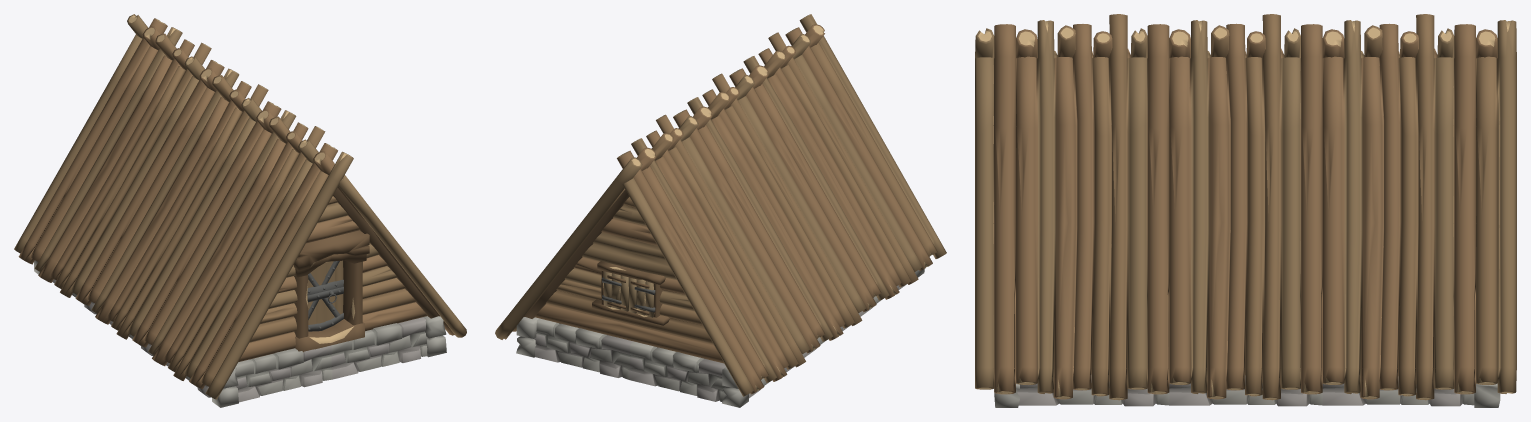
File: rpgpp_ag_building_closed_09.fbx
The picture shows the model from 3 angles, left to right: view 1: azimuth 30°, elevation 25°; view 2: azimuth 150°, elevation 25°; view 3: azimuth 270°, elevation 25°; orthographic projection. The views are drawn at different scales.
Visible parts, largest first — view 1: rpgpp_ag_building_closed_09; view 2: rpgpp_ag_building_closed_09; view 3: rpgpp_ag_building_closed_09.
Part boxes in pixels (box(x1,y1,x2,y2)): rpgpp_ag_building_closed_09: box(14, 14, 466, 407); rpgpp_ag_building_closed_09: box(495, 14, 946, 407); rpgpp_ag_building_closed_09: box(975, 14, 1516, 407).
Size of the model in its own units: 8.12 by 6.77 by 10.6.
